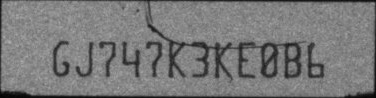0: (260, 40, 279, 78)
3: (191, 40, 209, 78)
4: (122, 41, 141, 79)
6: (306, 40, 326, 79)
7: (145, 40, 163, 78), (98, 39, 115, 78)
B: (282, 41, 301, 78)
E: (237, 39, 256, 78)
G: (52, 40, 70, 77)
J: (75, 40, 94, 77)
K: (168, 39, 187, 80), (214, 40, 232, 78)
